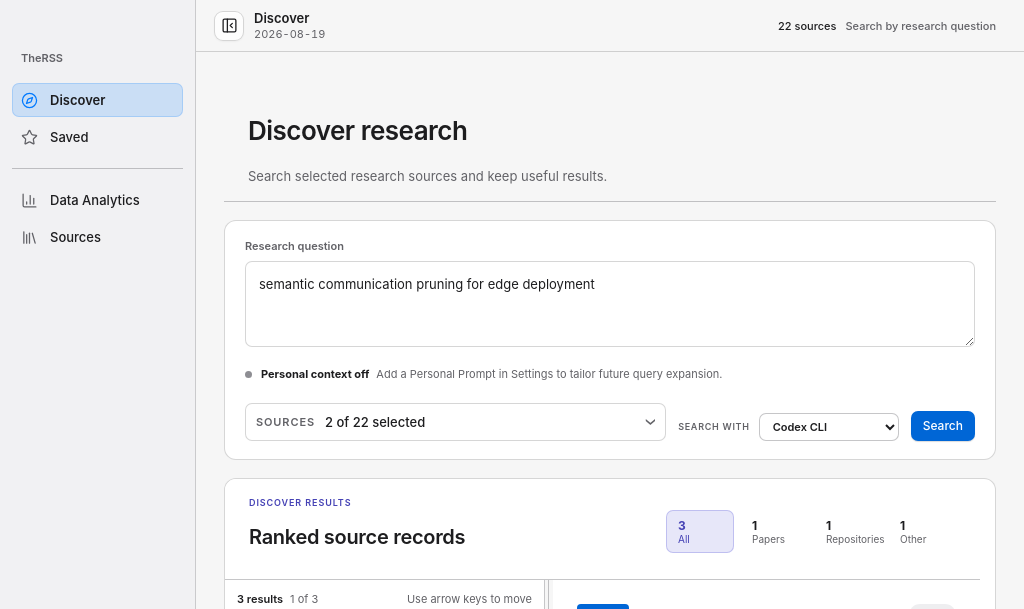
it: App › restores the exact source subset from the latest Discover session
The width and height of the screenshot is (1024, 609).
Click the button with aria-label "Choose sources, 2 of 22 selected".
click(285, 422)  # box [245,403,666,441]
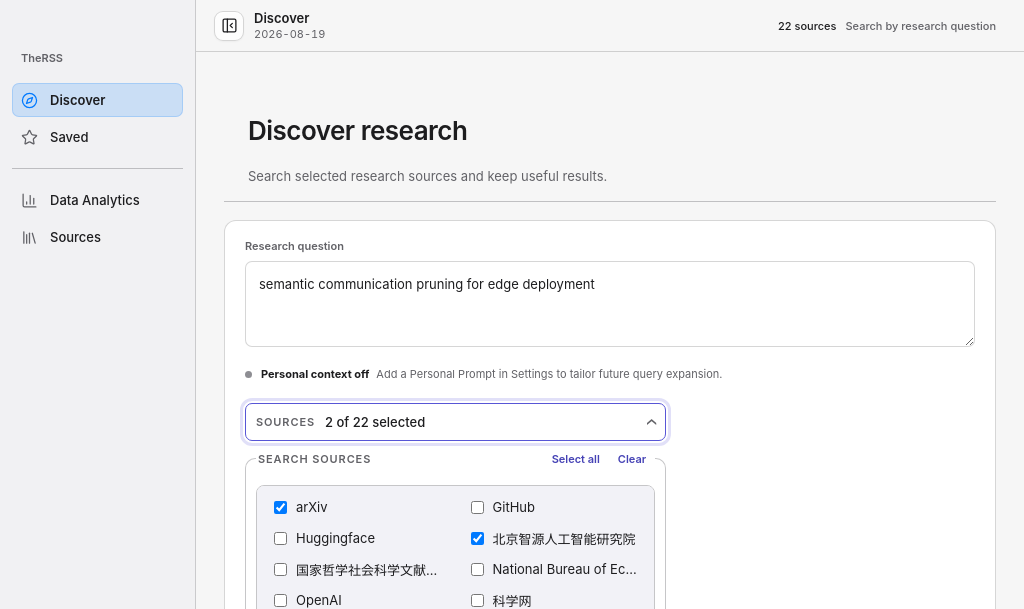
Expected: the checkbox named "Search arXiv" is checked, [274,501,287,514]
Expected: the checkbox named "Search 北京智源人工智能研究院" is checked, [471,532,484,545]
Expected: the checkbox named "Search GitHub" is not checked, [471,501,484,514]
